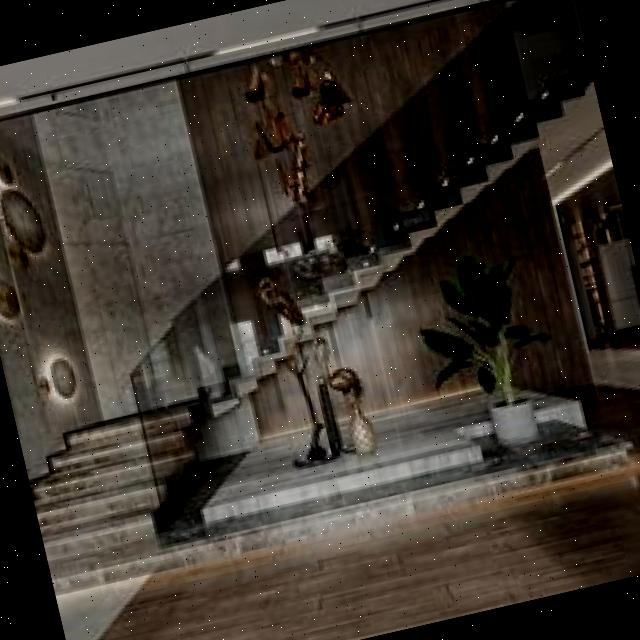stairs: (18, 394, 225, 564)
